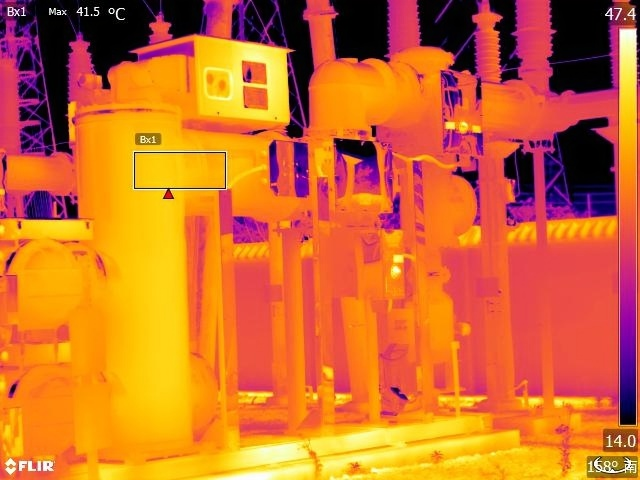tube: (61, 31, 100, 153), (507, 1, 563, 81), (469, 2, 507, 88), (602, 1, 640, 87), (382, 1, 425, 57), (143, 11, 173, 50)
